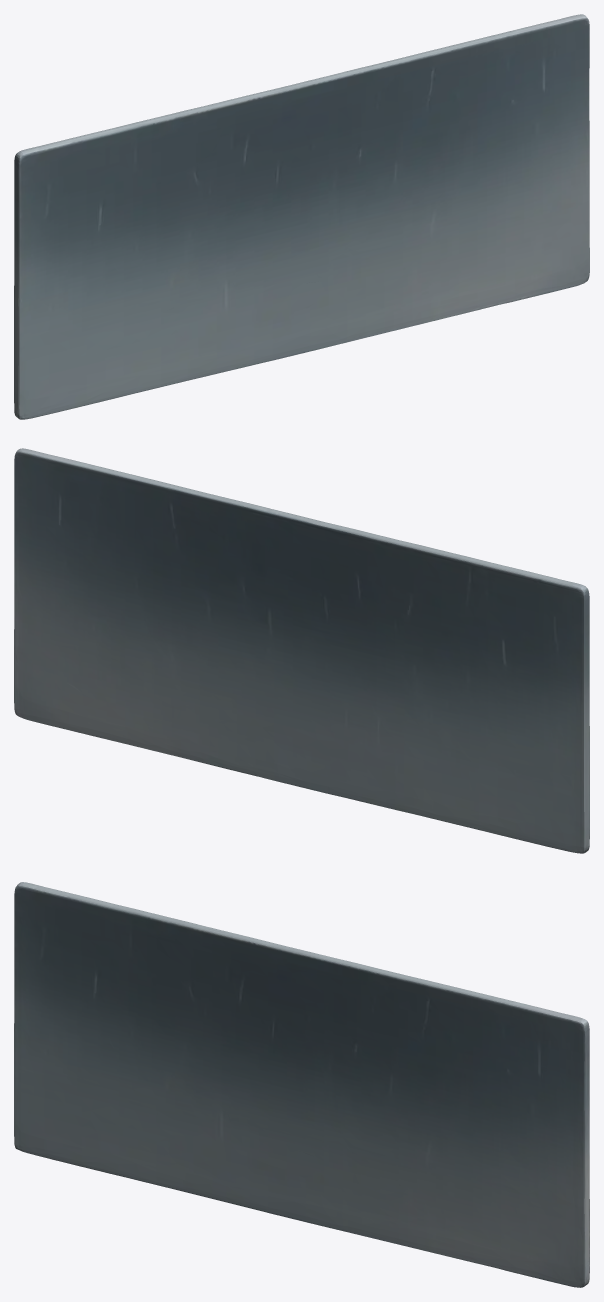
The picture shows the model from 3 angles, top to bottom: view 1: azimuth 30°, elevation 25°; view 2: azimuth 150°, elevation 25°; view 3: azimuth 330°, elevation 25°; orthographic projection.
Visible parts, largest first — view 1: world; view 2: world; view 3: world.
Boxes of the visible parts, bbox=[...] form: world: bbox=[14, 14, 589, 419]; world: bbox=[14, 448, 589, 853]; world: bbox=[14, 882, 589, 1287].
Size of the model in its own units: 1 by 0.4501 by 0.0174.
1 material, 1 textured.
